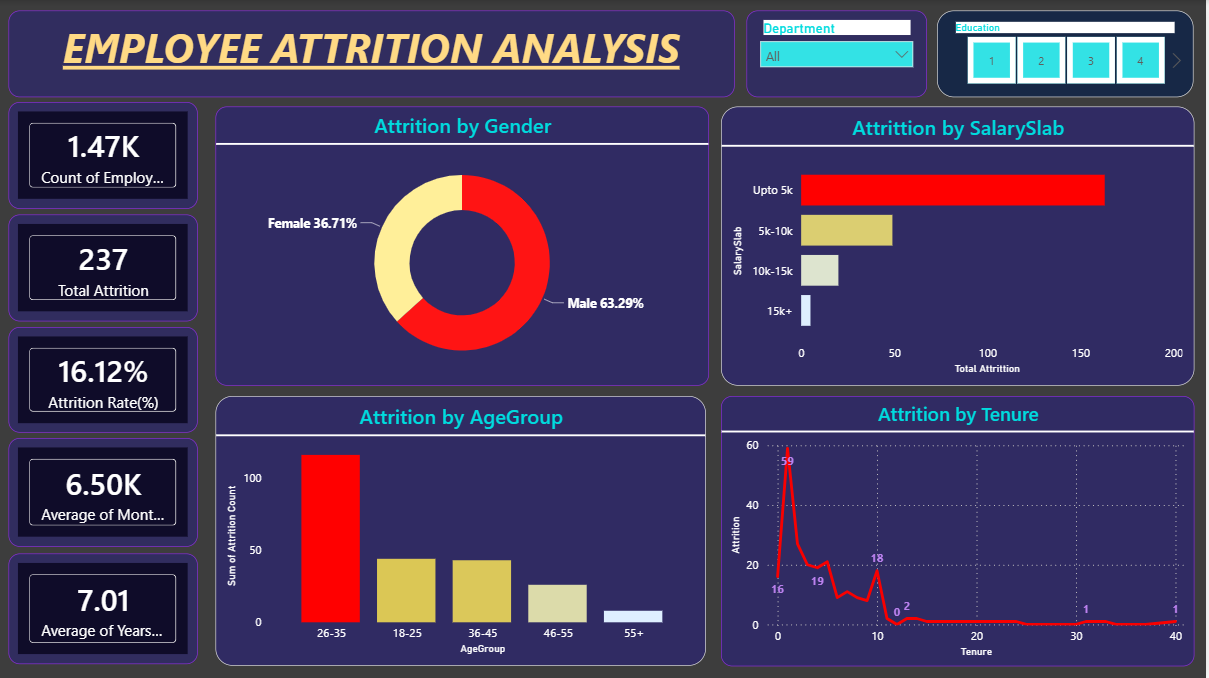

Layout of this report page (visuals, bound fields, positions):
{"tool":"powerbi","page":{"name":"Employee Attrition Analysis","canvas":[1280,720],"ordinal":0},"visuals":[{"type":"cardVisual","fields":{"Data":["Sum(HR_Analytics.Attrition Count)"]},"box":[11.3,228,200.8,113],"z":0},{"type":"donutChart","fields":{"Category":["HR_Analytics.Gender"],"Y":["Sum(HR_Analytics.Attrition Count)"]},"box":[229.9,113.3,523,296.3],"z":1000},{"type":"barChart","title":"Attrittion by SalarySlab","fields":{"Category":["HR_Analytics.SalarySlab"],"Y":["Sum(HR_Analytics.Attrition Count)"]},"box":[765.9,113.3,502,296.3],"z":2000},{"type":"columnChart","title":"Attrition by AgeGroup","fields":{"Y":["Sum(HR_Analytics.Attrition Count)"],"Category":["HR_Analytics.AgeGroup"]},"box":[230.6,419.9,520.1,286.3],"z":3000},{"type":"lineChart","fields":{"Category":["HR_Analytics.YearsAtCompany"],"Y":["Sum(HR_Analytics.Attrition Count)"]},"box":[765.9,419.4,502,286.6],"z":4000},{"type":"slicer","fields":{"Values":["HR_Analytics.Department"]},"box":[793.4,11.3,191.5,91.7],"z":5000},{"type":"slicer","fields":{"Values":["HR_Analytics.Education"]},"box":[996.2,11.3,272,91.7],"z":6000},{"type":"textbox","box":[11.1,11.1,769.9,92.3],"z":7000},{"type":"cardVisual","fields":{"Data":["Count(HR_Analytics.EmployeeNumber)"]},"box":[11,108,200.8,113],"z":8000},{"type":"cardVisual","fields":{"Data":["HR_Analytics.Attrition Rate(%)"]},"box":[11.3,346,200.8,112],"z":9000},{"type":"cardVisual","fields":{"Data":["Avg(HR_Analytics.MonthlyIncome)"]},"box":[11.3,464,200.8,115],"z":10000},{"type":"cardVisual","fields":{"Data":["Avg(HR_Analytics.YearsAtCompany)"]},"box":[11.3,587,200.8,117],"z":11000}]}

Visuals, with their boxes in screenshot pixels (x1, y1, x2, y2), scaled from the page's 1280x720 canvas onto the 1209x678 screenshot:
cardVisual - Sum(HR_Analytics.Attrition Count): (left=11, top=215, right=200, bottom=321)
donutChart - HR_Analytics.Gender x Sum(HR_Analytics.Attrition Count): (left=217, top=107, right=711, bottom=386)
"Attrittion by SalarySlab" barChart: (left=723, top=107, right=1198, bottom=386)
"Attrition by AgeGroup" columnChart: (left=218, top=395, right=709, bottom=665)
lineChart - HR_Analytics.YearsAtCompany x Sum(HR_Analytics.Attrition Count): (left=723, top=395, right=1198, bottom=665)
slicer - HR_Analytics.Department: (left=749, top=11, right=930, bottom=97)
slicer - HR_Analytics.Education: (left=941, top=11, right=1198, bottom=97)
textbox: (left=10, top=10, right=738, bottom=97)
cardVisual - Count(HR_Analytics.EmployeeNumber): (left=10, top=102, right=200, bottom=208)
cardVisual - HR_Analytics.Attrition Rate(%): (left=11, top=326, right=200, bottom=431)
cardVisual - Avg(HR_Analytics.MonthlyIncome): (left=11, top=437, right=200, bottom=545)
cardVisual - Avg(HR_Analytics.YearsAtCompany): (left=11, top=553, right=200, bottom=663)
